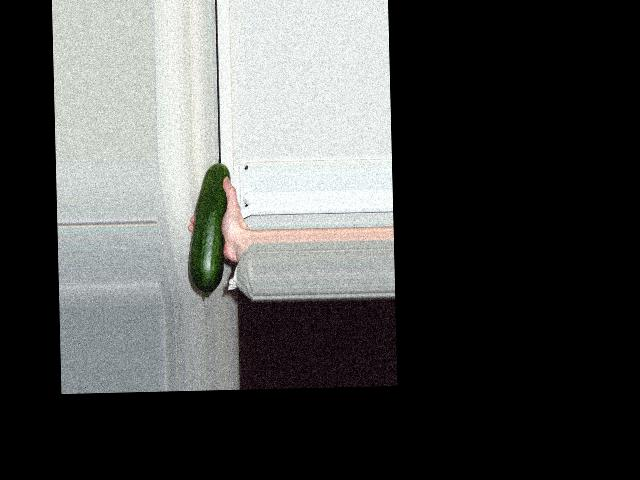cucumber: (185, 162, 232, 297)
